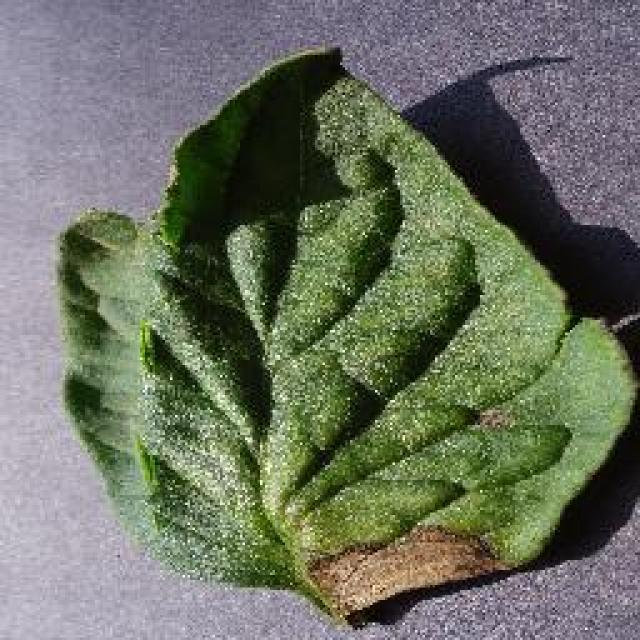Tomato Late Blight: (105, 148, 462, 578)
